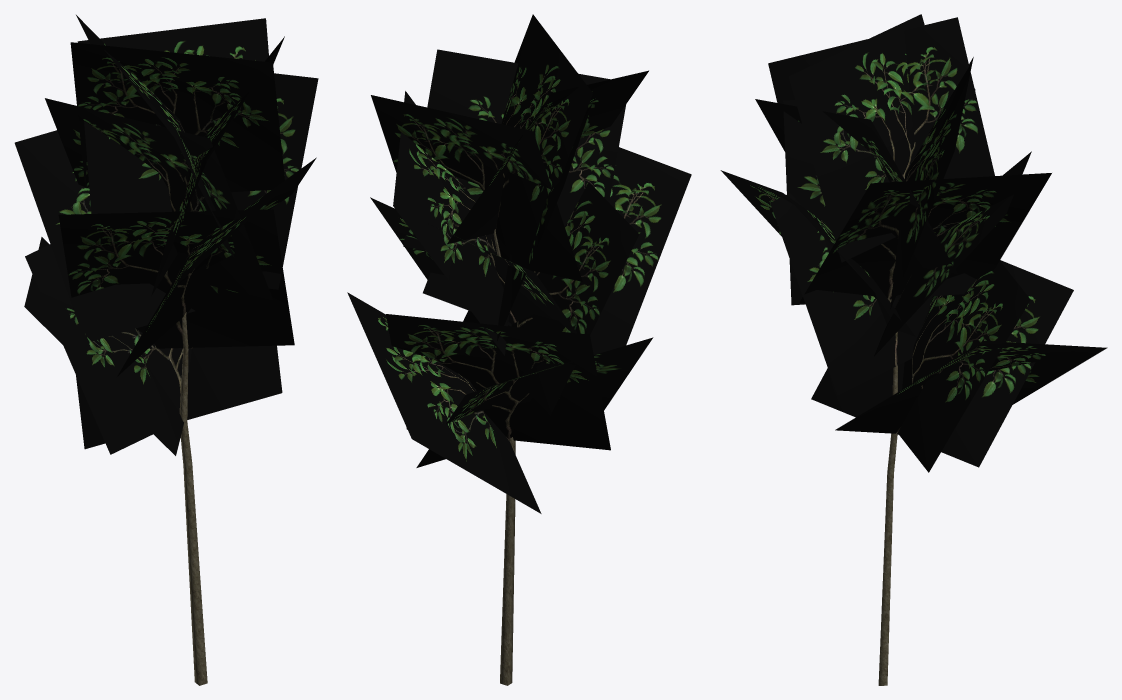
Rendered from MK4_Ficus1.DAE.
The picture shows the model from 3 angles, left to right: view 1: azimuth 30°, elevation 25°; view 2: azimuth 150°, elevation 25°; view 3: azimuth 270°, elevation 25°; orthographic projection. The views are drawn at different scales.
Visible parts, largest first — view 1: MK4_Ficus1; view 2: MK4_Ficus1; view 3: MK4_Ficus1.
Boxes of the visible parts, <box> form: MK4_Ficus1: <box>14,15,318,685</box>; MK4_Ficus1: <box>347,14,691,685</box>; MK4_Ficus1: <box>720,14,1107,685</box>.
Size of what is drawn, in the model's own units: 6.96 by 8.9 by 15.91.
